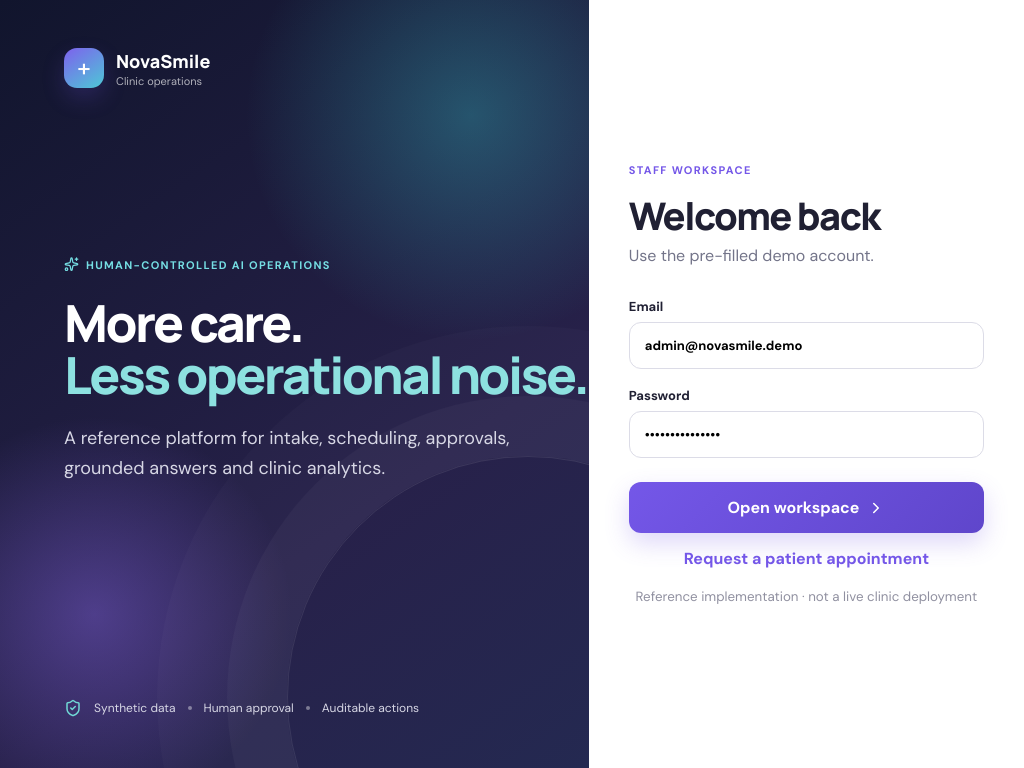
Test: clinic web application › shows invalid-login error
Click the button "Open workspace" at (806, 508), box [629, 482, 984, 533]
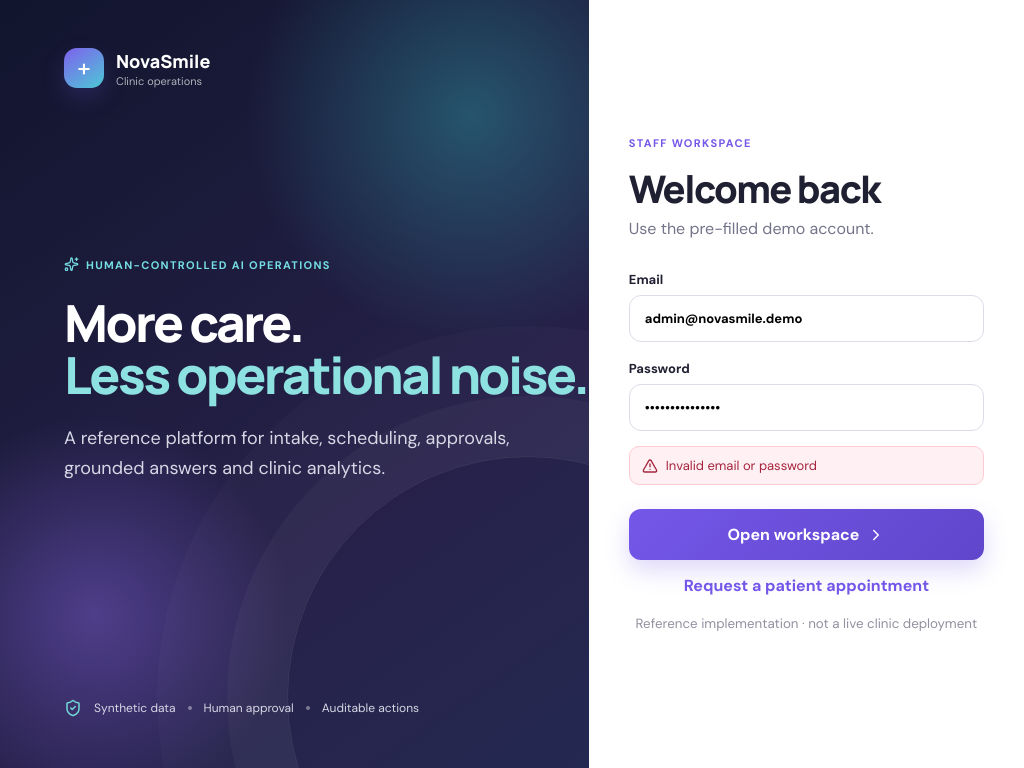
Result: the text "Invalid email or password" is shown at [666, 457, 817, 474]
